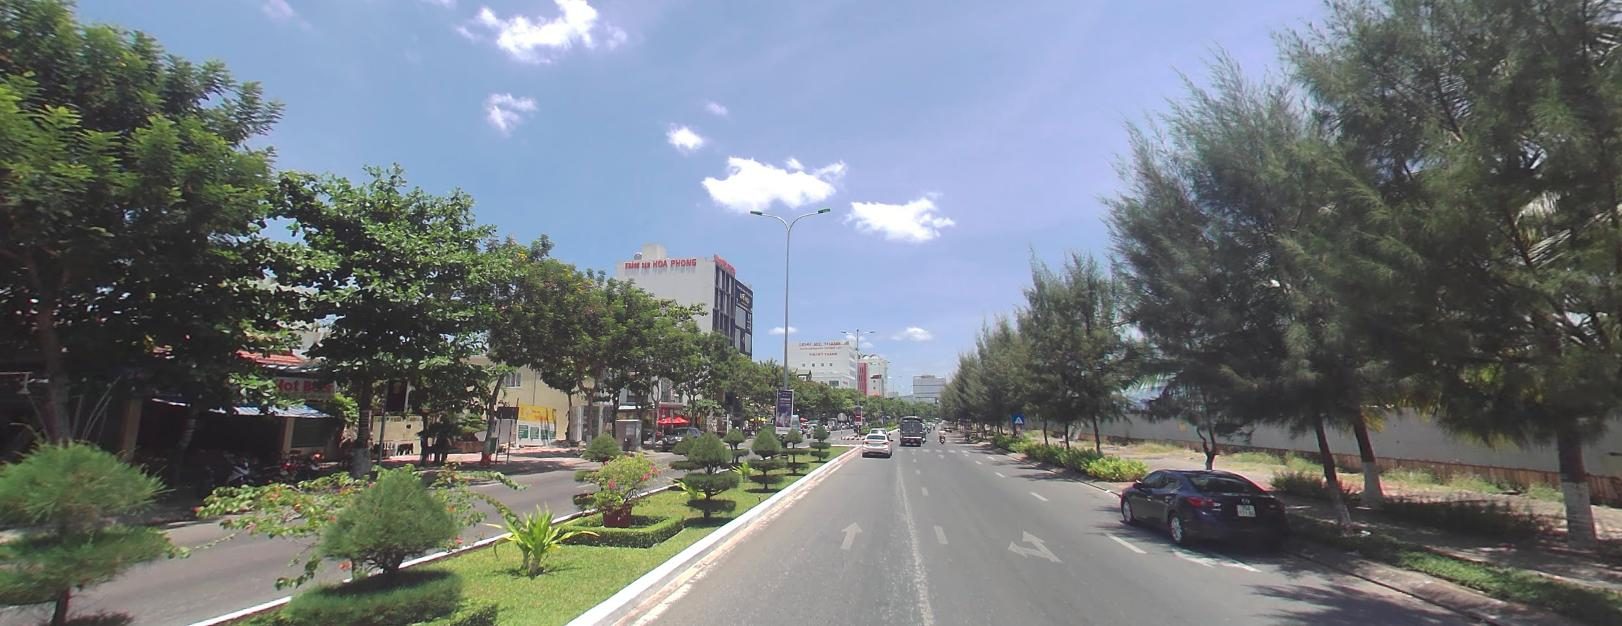Cam nguoc chieu: (854, 411, 860, 419)
